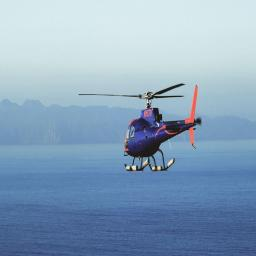helicopter: (77, 84, 204, 171)
